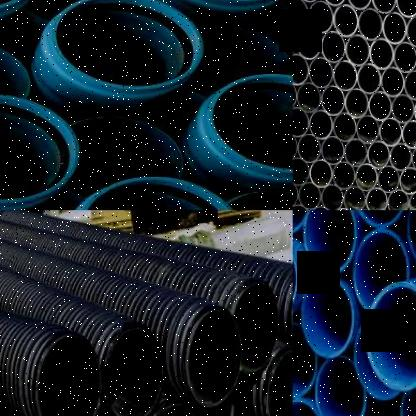pipe: (52, 0, 202, 89), (48, 115, 184, 202), (0, 94, 79, 210), (207, 73, 293, 173), (182, 26, 293, 101), (70, 176, 242, 210), (364, 280, 416, 390), (188, 309, 242, 408), (37, 334, 101, 416), (105, 328, 164, 416), (352, 228, 410, 313), (301, 276, 354, 358), (234, 283, 278, 372), (303, 210, 357, 277), (315, 355, 367, 416), (22, 0, 140, 26), (0, 37, 31, 103), (198, 377, 249, 416), (293, 322, 317, 396), (267, 349, 292, 416), (352, 210, 408, 227), (357, 7, 383, 40), (333, 4, 359, 36), (295, 27, 321, 59), (320, 30, 346, 62), (382, 11, 407, 44), (308, 56, 333, 88), (332, 59, 357, 91), (308, 0, 333, 32), (345, 34, 370, 66), (369, 37, 393, 70), (380, 66, 405, 97), (344, 87, 369, 118), (367, 90, 392, 120), (308, 109, 333, 139), (297, 132, 322, 162), (357, 63, 381, 94), (321, 84, 345, 115), (392, 41, 416, 72), (320, 135, 345, 164), (297, 82, 321, 112), (309, 158, 333, 188), (400, 371, 416, 416), (332, 112, 356, 141), (356, 115, 380, 144), (344, 137, 368, 166), (391, 94, 414, 124), (332, 160, 355, 190), (298, 182, 322, 210), (379, 117, 402, 146), (389, 142, 412, 171), (367, 140, 390, 168), (320, 182, 343, 210), (147, 404, 199, 416), (355, 162, 377, 190), (377, 164, 399, 192), (293, 398, 326, 416), (343, 185, 366, 210), (292, 52, 309, 84), (292, 106, 309, 136), (365, 187, 387, 210), (387, 188, 409, 210), (292, 156, 309, 184), (292, 0, 308, 29), (399, 166, 416, 193), (401, 119, 416, 148), (403, 68, 416, 100), (394, 0, 416, 17), (405, 14, 416, 47), (371, 0, 397, 13), (346, 0, 372, 10), (410, 143, 416, 171), (408, 189, 416, 210), (293, 179, 298, 208), (320, 0, 346, 5), (414, 96, 416, 126)
